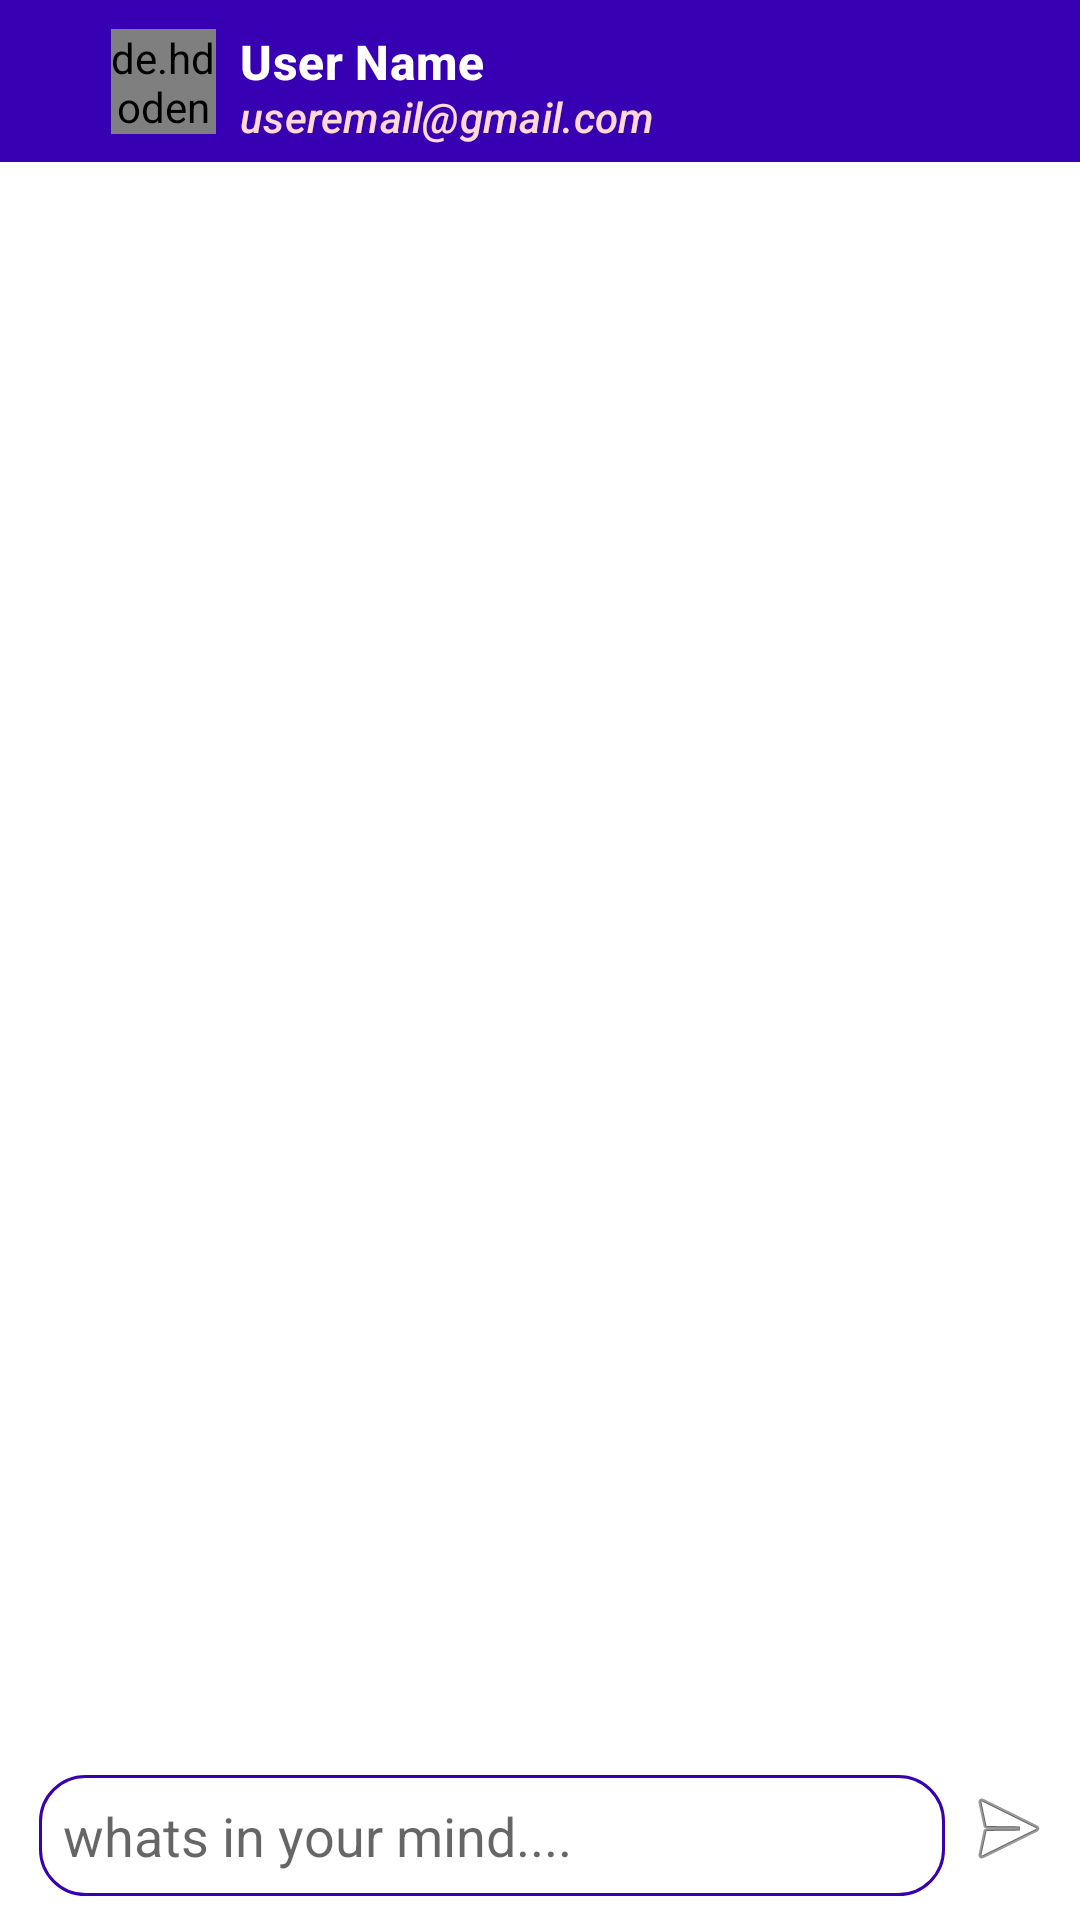

Named icons in this screenshot (1080*1920) and their bounding boxes, rect(x1, y1, x2, y2):
send: rect(978, 1798, 1040, 1859)
